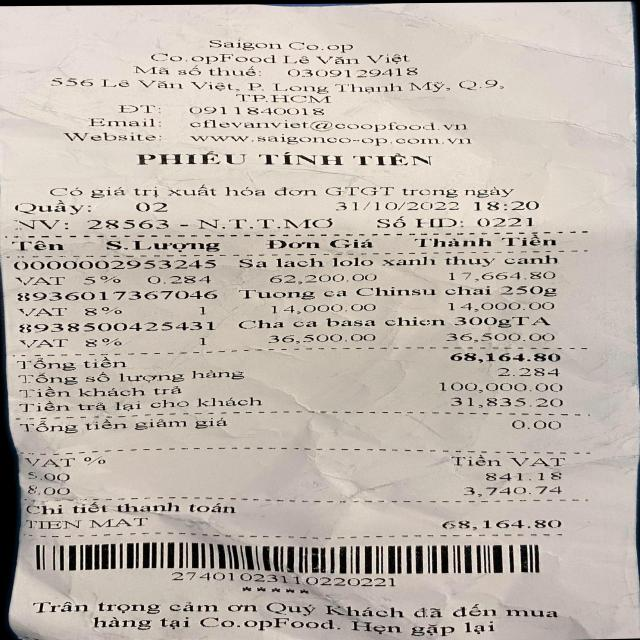Date: (310, 198, 468, 216)
Store_Name: (181, 31, 410, 55)
amount_number: (445, 350, 567, 363)
label_total: (14, 358, 132, 370)
